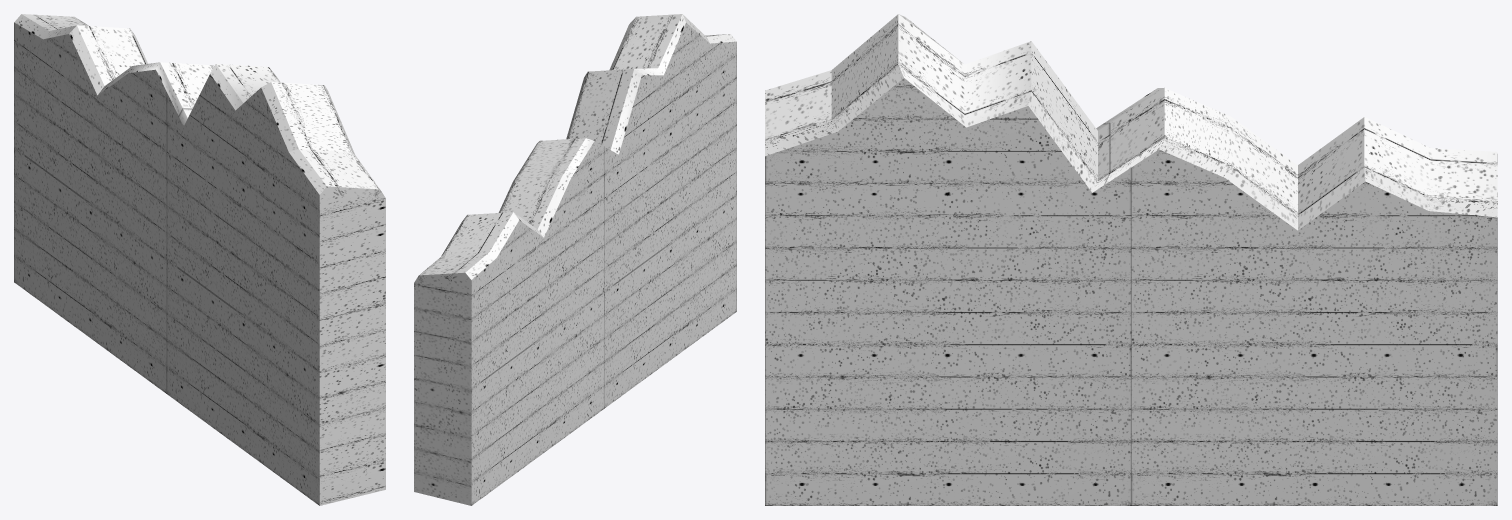
Rendered from Wall_Cardinal_backing_02_Damaged 1.fbx.
3 views of the same model, side by side, from view 1: azimuth 30°, elevation 25°; view 2: azimuth 150°, elevation 25°; view 3: azimuth 270°, elevation 25° (orthographic). The views are drawn at different scales.
Visible parts, largest first — view 1: Wall_Cardinal_backing_02_Damaged; view 2: Wall_Cardinal_backing_02_Damaged; view 3: Wall_Cardinal_backing_02_Damaged.
Part boxes in pixels (x1,y1,x2,y2): Wall_Cardinal_backing_02_Damaged: (14, 14, 385, 505); Wall_Cardinal_backing_02_Damaged: (414, 14, 736, 505); Wall_Cardinal_backing_02_Damaged: (765, 14, 1497, 505).
Bounding box in the file's own units: 0.25 × 1.38 × 2.
